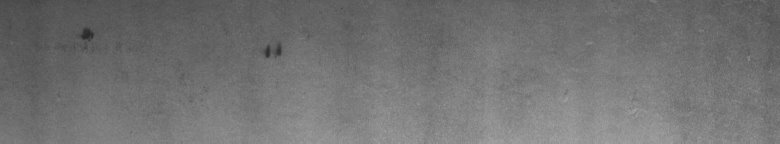fi: (76, 20, 96, 48)
